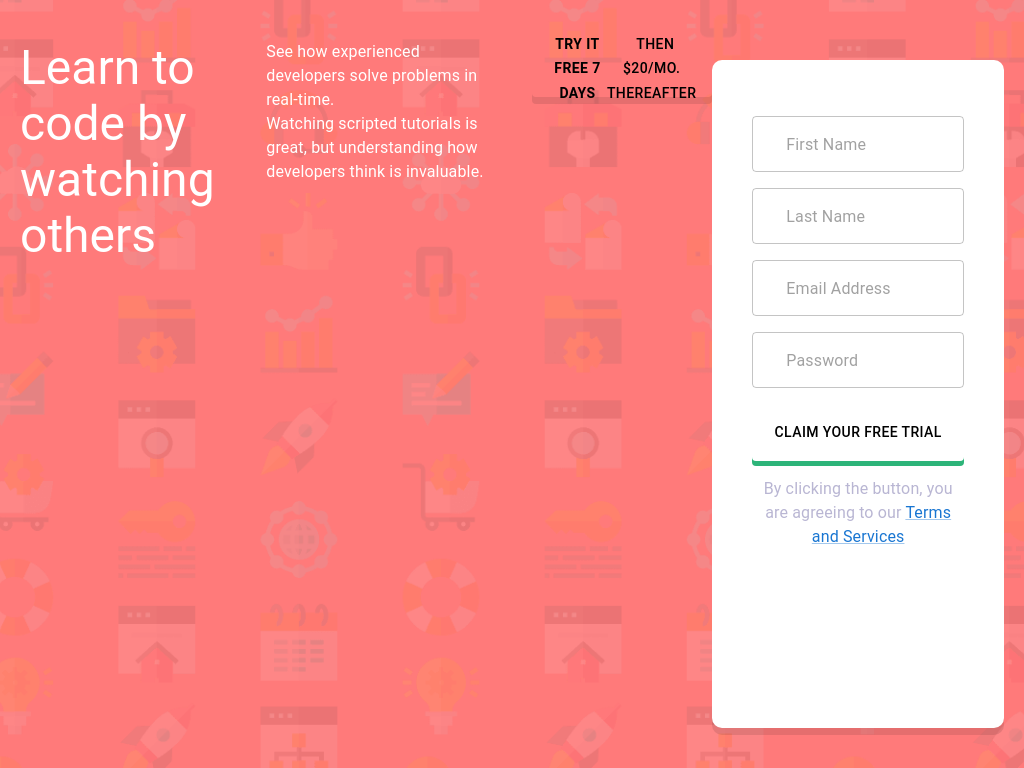
Test case: Homepage › displays error messages when form fields are invalid
Simulate invalid email input
In the field with placeholder "Email Address": [858, 288] box top-left (772, 260), bottom-right (944, 316), type "invalidInput"
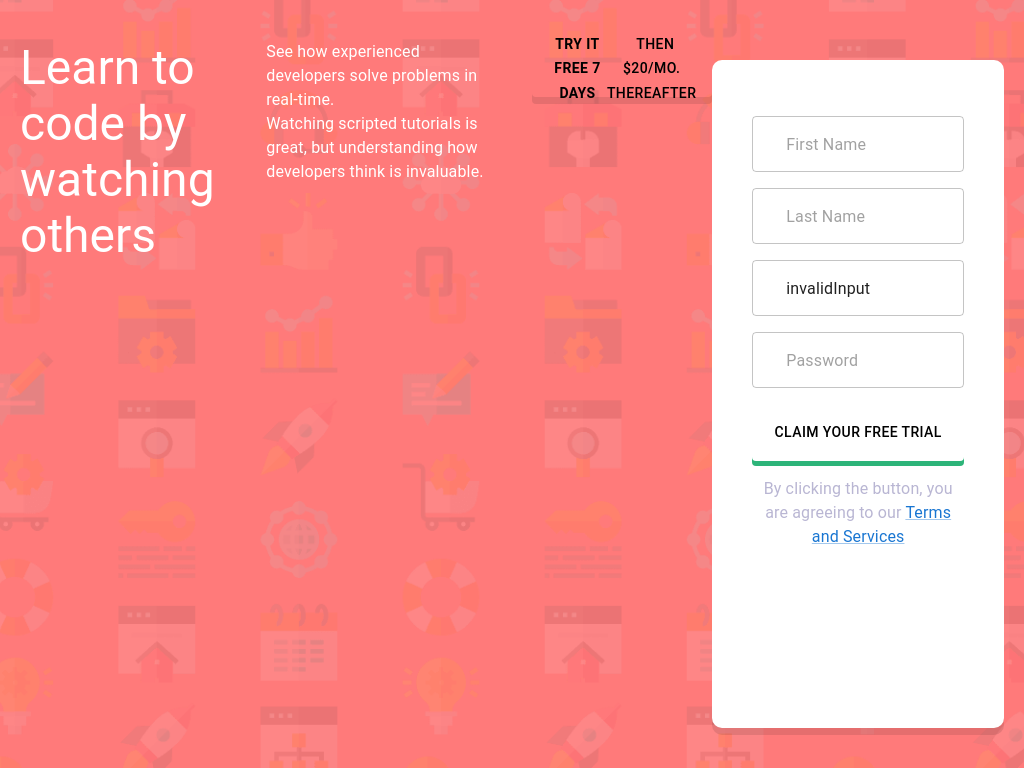
Submit the form
Click the button "CLAIM YOUR FREE TRIAL": [858, 432] box top-left (752, 404), bottom-right (964, 461)
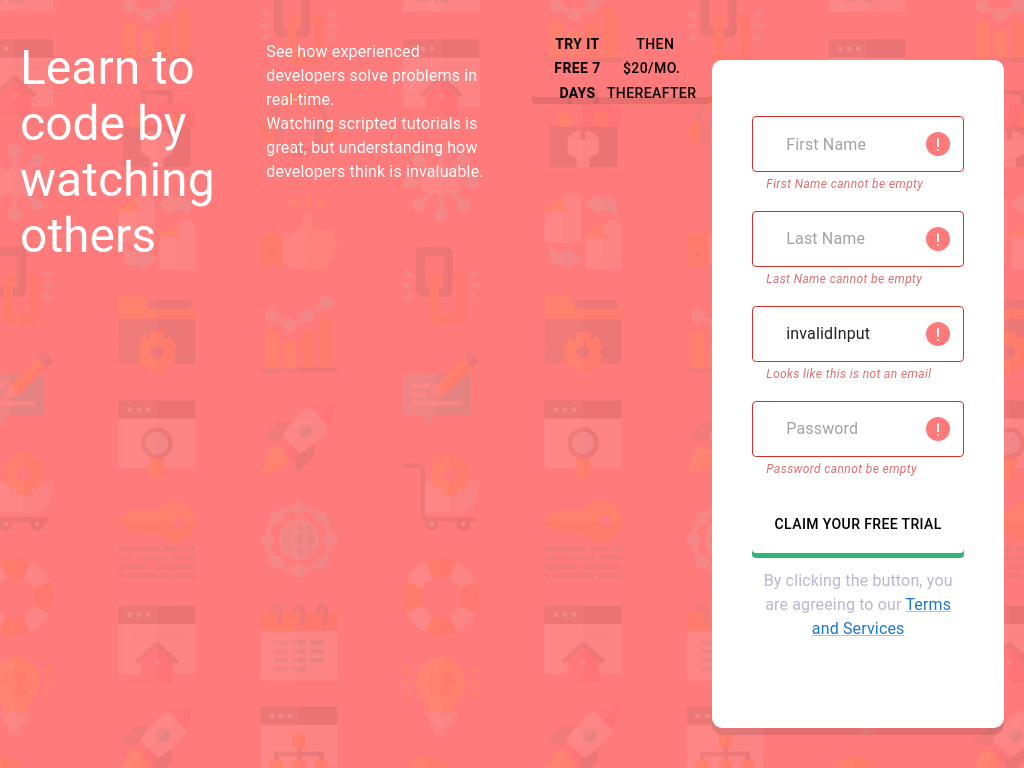
Expected: the text "First Name cannot be empty" is shown, top-left (766, 175), bottom-right (950, 195)
Expected: the text "Looks like this is not an email" is shown, top-left (766, 365), bottom-right (950, 385)
